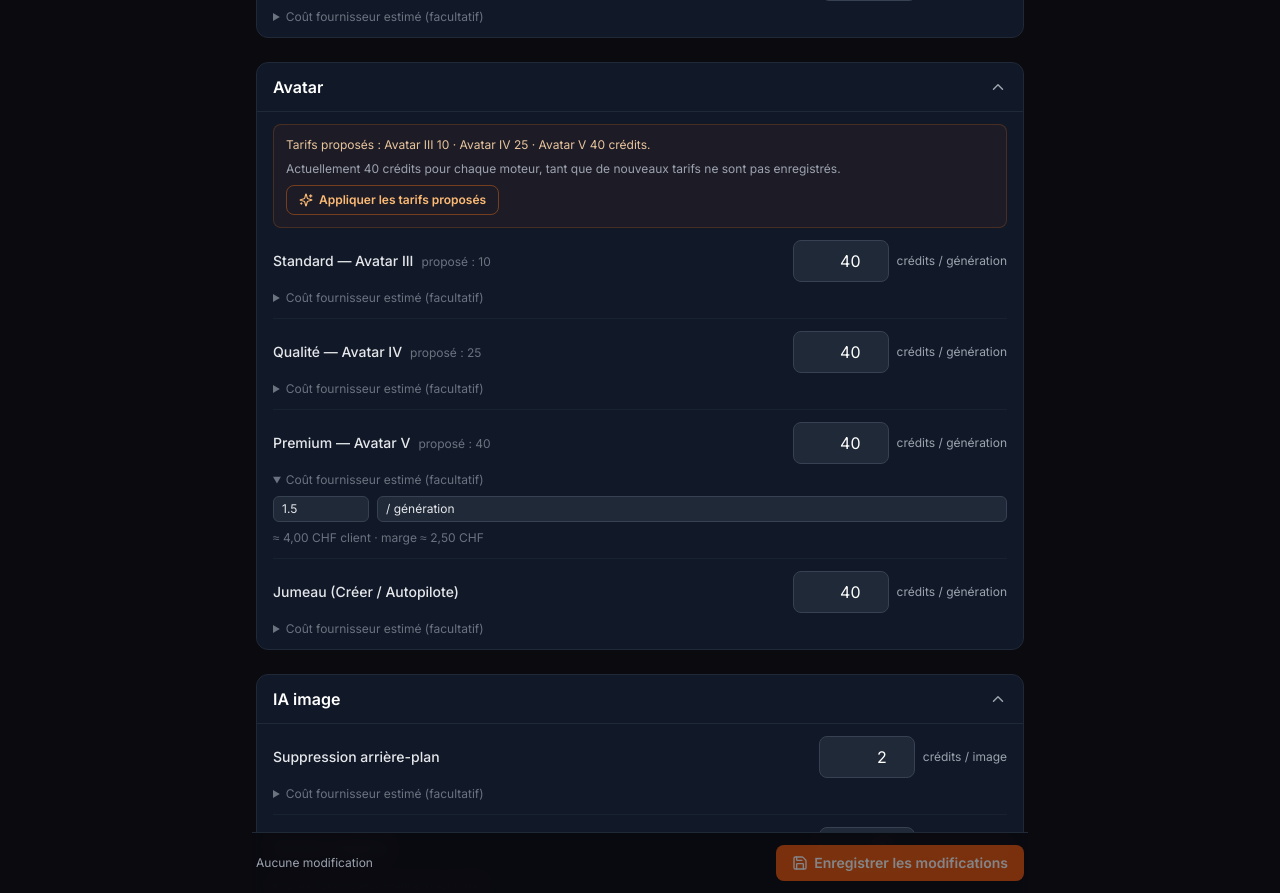
/admin/tarifs › erreur de validation serveur → affichée sous le champ
(page scrolled)
Replace the text in the number field labelled "Premium — Avatar V" with "60" at coordinates (840, 443), box x1=792 y1=422 x2=888 y2=464
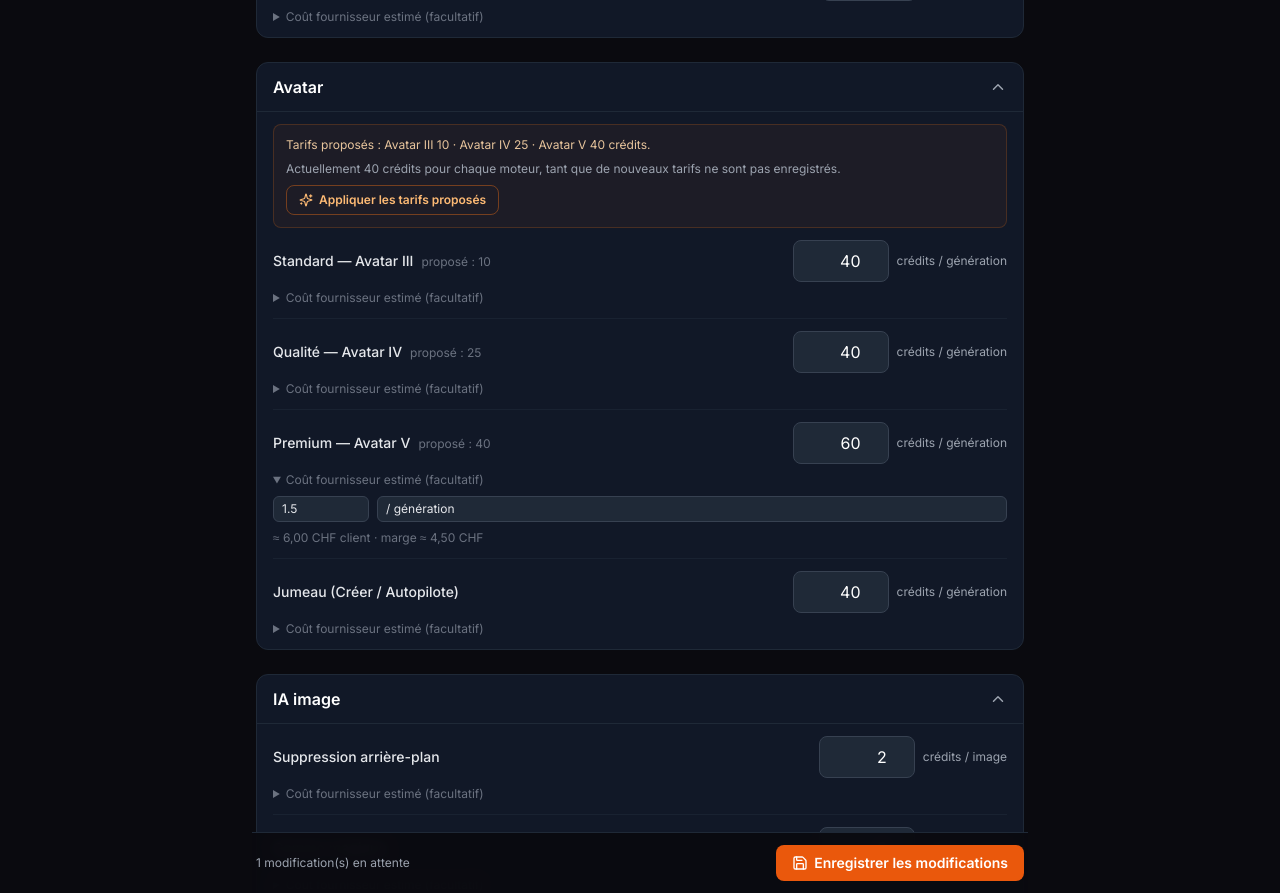
Click the button "Enregistrer les modifications" at coordinates (900, 863), box x1=776 y1=845 x2=1024 y2=881
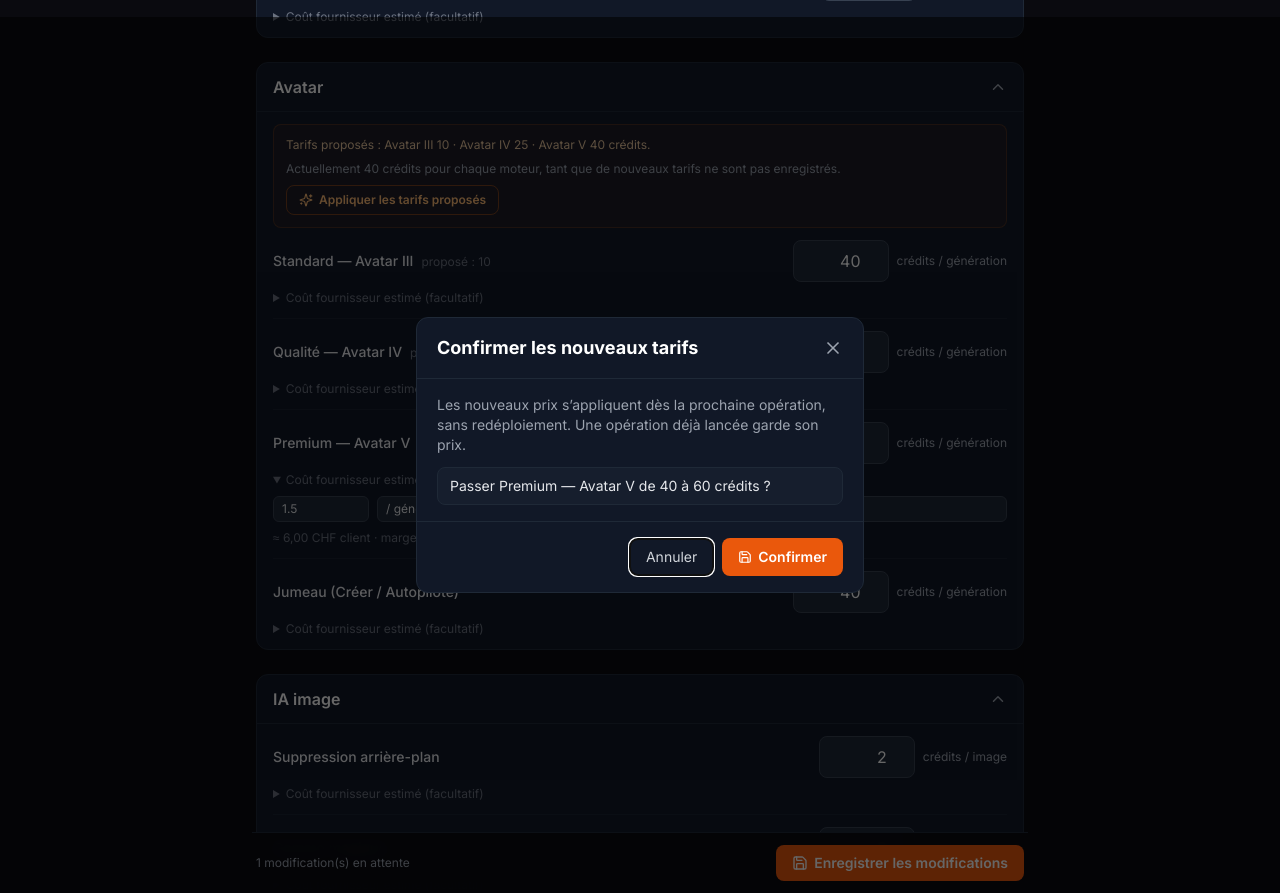
Click the button "Confirmer" at coordinates (783, 557), box x1=722 y1=538 x2=843 y2=576
(page scrolled)
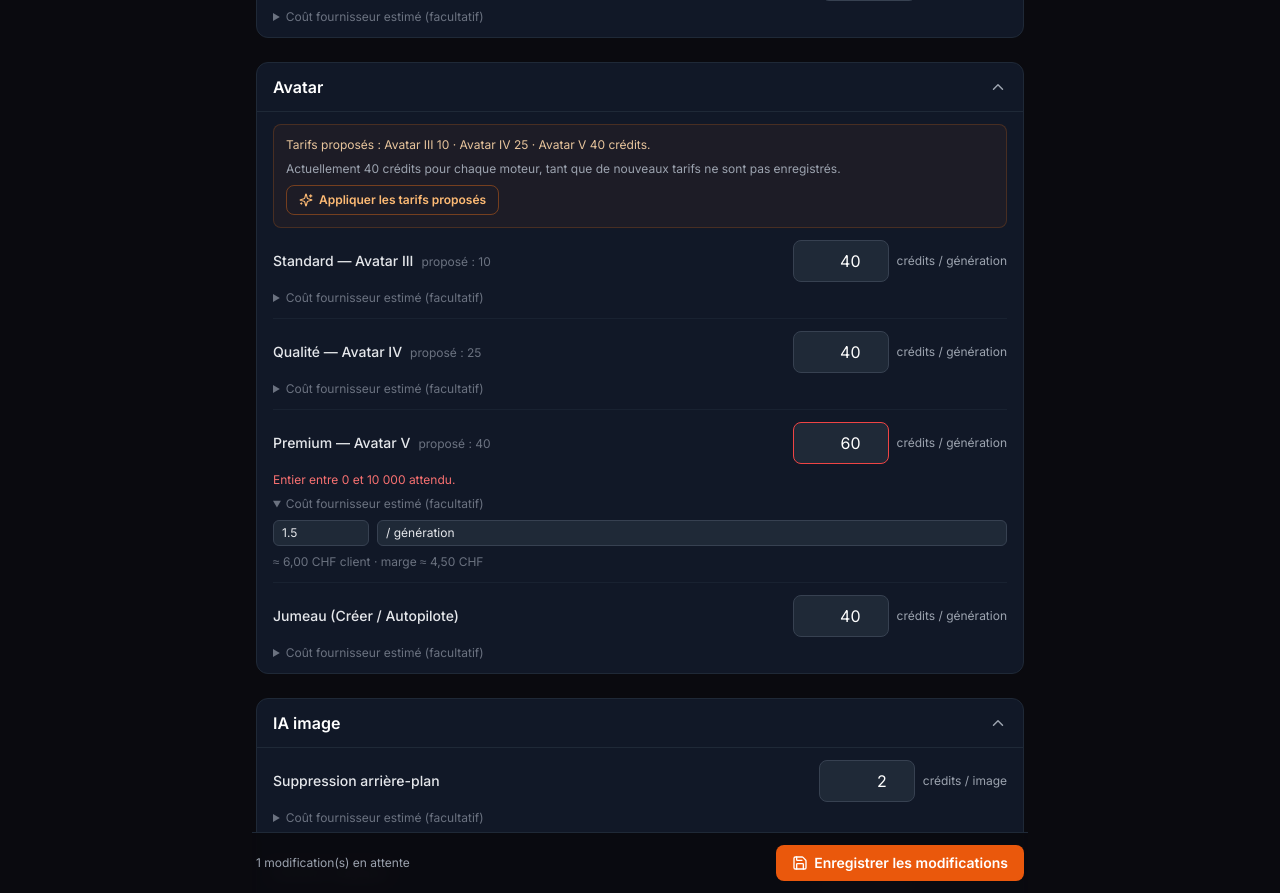
Expected: the text "Entier entre 0 et 10 000 attendu." is shown, x1=273 y1=472 x2=455 y2=487
